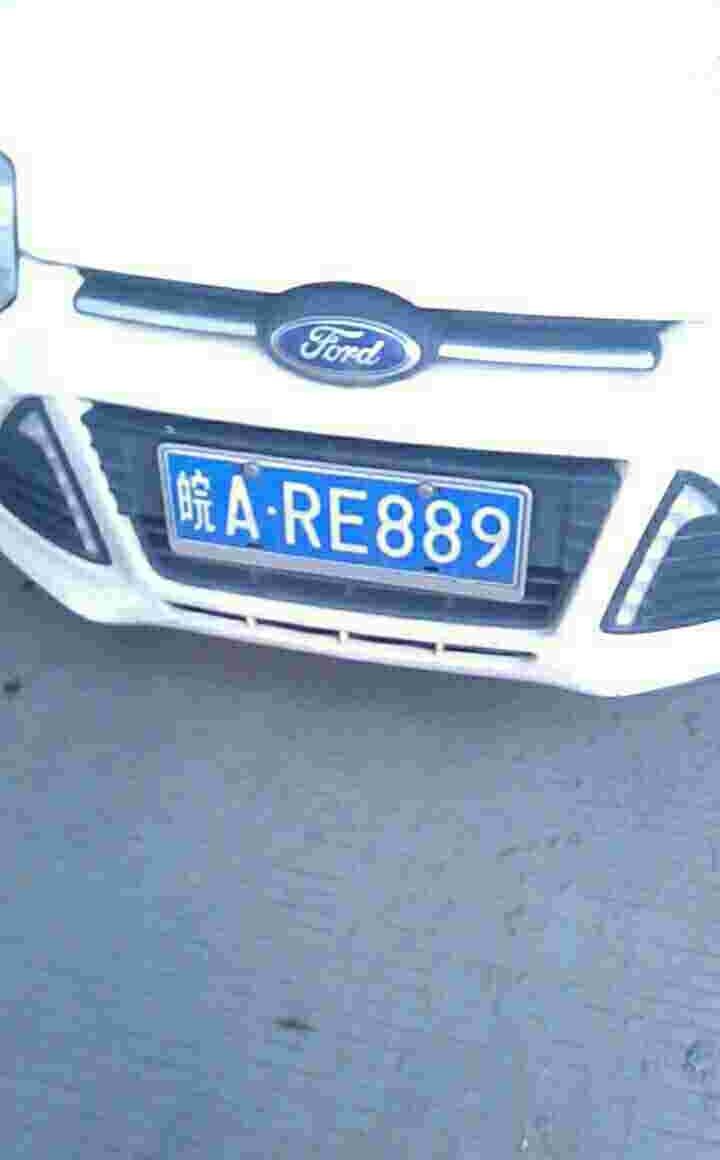license_plate: (161, 441, 535, 582)
